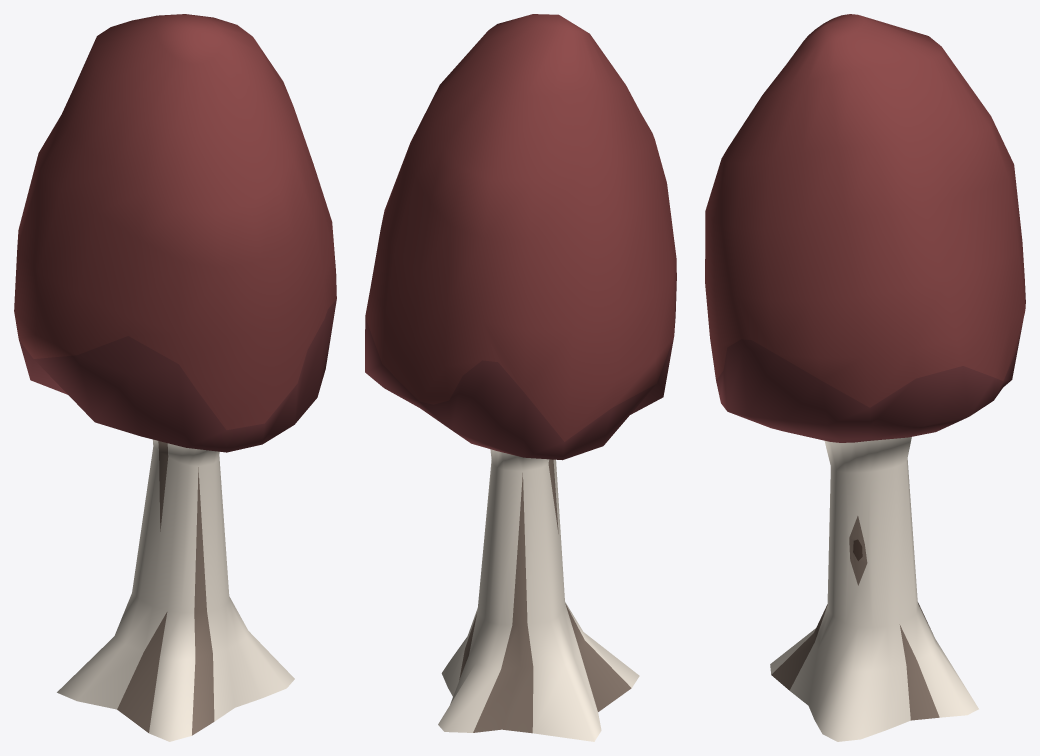
The model's file is Tree2.fbx.
3 renders of one model, left to right at view 1: azimuth 30°, elevation 25°; view 2: azimuth 150°, elevation 25°; view 3: azimuth 270°, elevation 25°, orthographic.
Visible parts, largest first — view 1: Tree2; view 2: Tree2; view 3: Tree2.
Boxes of the visible parts, x1,y1,x2,y2 form: Tree2: (14, 14, 336, 741); Tree2: (365, 14, 676, 741); Tree2: (705, 14, 1025, 741).
Size of the model in its own units: 71.04 by 167 by 72.61.
